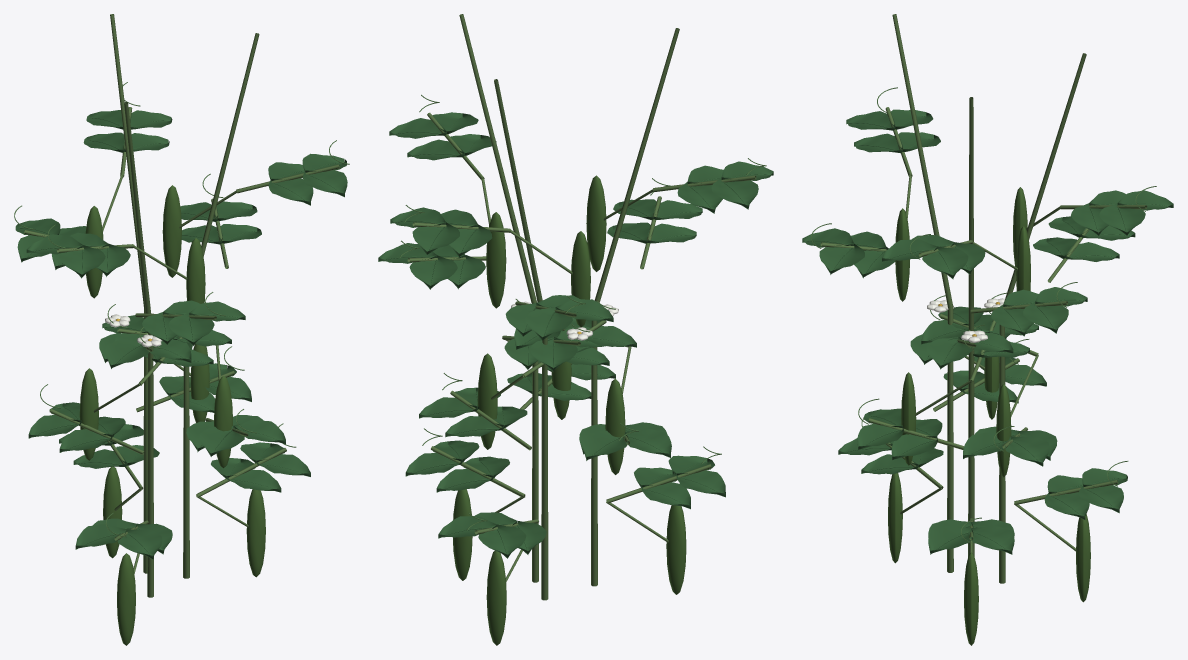
The model's file is arveja.glb.
3 renders of one model, left to right at view 1: azimuth 30°, elevation 25°; view 2: azimuth 150°, elevation 25°; view 3: azimuth 270°, elevation 25°, orthographic. The views are drawn at different scales.
Visible parts, largest first — view 1: arveja; view 2: arveja; view 3: arveja.
Boxes of the visible parts, x1,y1,x2,y2 form: arveja: (14, 14, 349, 645); arveja: (378, 14, 773, 645); arveja: (802, 14, 1173, 645).
Bounding box in the file's own units: 0.56 × 0.8783 × 0.5389.
